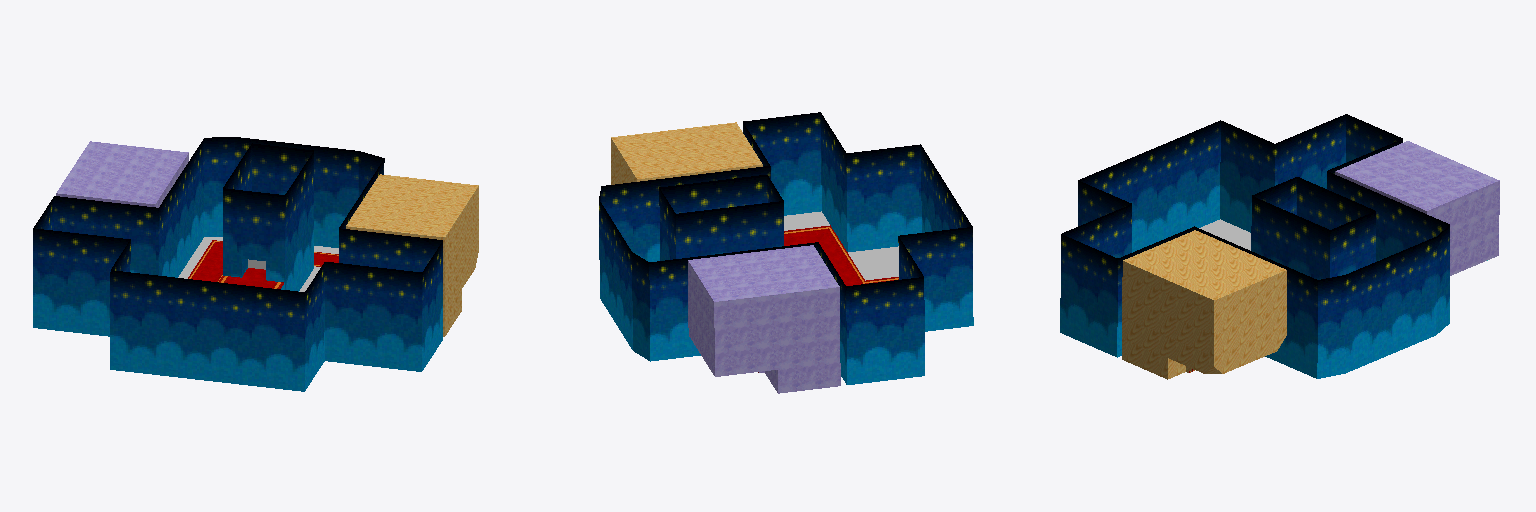
The picture shows the model from 3 angles: view 1: azimuth 30°, elevation 25°; view 2: azimuth 150°, elevation 25°; view 3: azimuth 270°, elevation 25°; orthographic projection.
Parts seen in each view (by area): view 1: 012_2FFC08F5_c.bmp, 013_66E6C696_c.bmp, 015_3342EBC1_c.bmp, 014_46B89AC1_c.bmp, 010_3AE92A9C_c.bmp; view 2: 012_2FFC08F5_c.bmp, 015_3342EBC1_c.bmp, 013_66E6C696_c.bmp, 010_3AE92A9C_c.bmp, 014_46B89AC1_c.bmp; view 3: 012_2FFC08F5_c.bmp, 013_66E6C696_c.bmp, 015_3342EBC1_c.bmp, 010_3AE92A9C_c.bmp.
Boxes of the visible parts, x1,y1,x2,y2 form: 012_2FFC08F5_c.bmp: [33, 137, 442, 391]; 013_66E6C696_c.bmp: [346, 174, 478, 336]; 015_3342EBC1_c.bmp: [56, 141, 188, 207]; 014_46B89AC1_c.bmp: [188, 240, 338, 288]; 010_3AE92A9C_c.bmp: [178, 237, 338, 291]; 012_2FFC08F5_c.bmp: [599, 112, 973, 384]; 015_3342EBC1_c.bmp: [688, 245, 840, 393]; 013_66E6C696_c.bmp: [611, 122, 762, 184]; 010_3AE92A9C_c.bmp: [784, 211, 898, 280]; 014_46B89AC1_c.bmp: [758, 225, 898, 372]; 012_2FFC08F5_c.bmp: [1060, 114, 1449, 378]; 013_66E6C696_c.bmp: [1122, 230, 1286, 379]; 015_3342EBC1_c.bmp: [1335, 141, 1499, 275]; 010_3AE92A9C_c.bmp: [1199, 219, 1250, 250].
Size of the model in its own units: 5.2 by 1.77 by 5.21.
Materials: 11 (8 with a texture image).